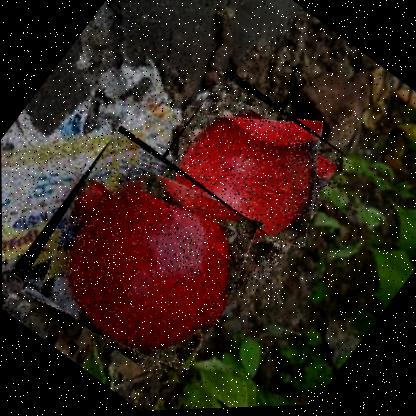pomegranate: (8, 120, 276, 392), (133, 65, 354, 288)
